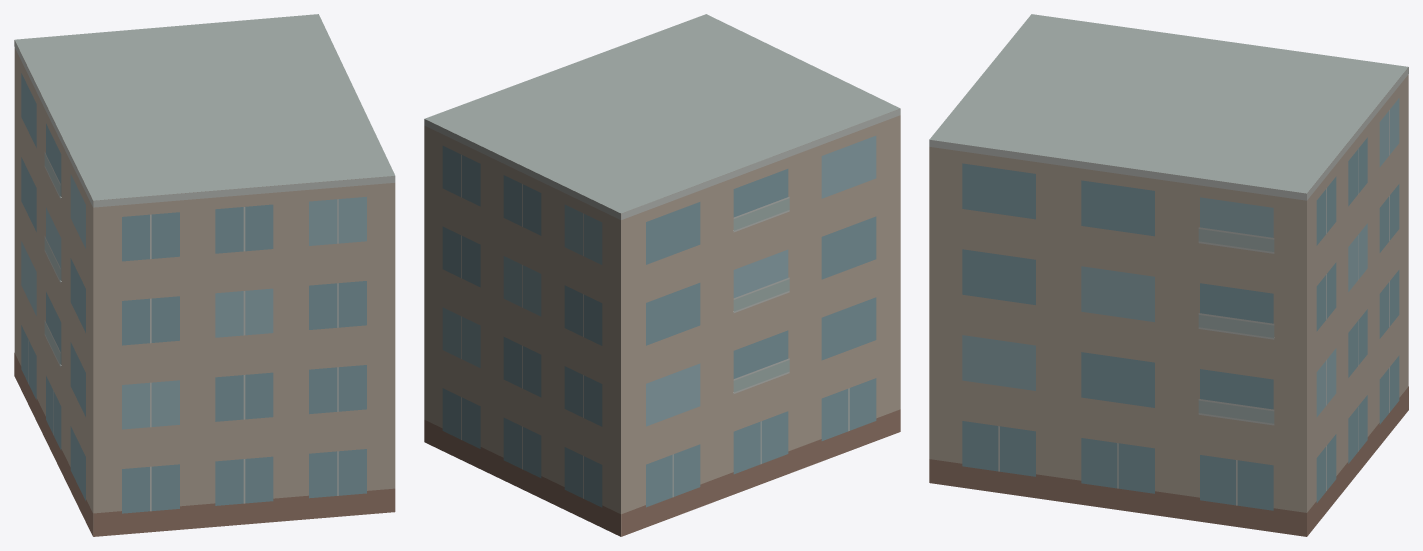
The model's file is survey-upis-32932710.glb.
The picture shows the model from 3 angles, left to right: view 1: azimuth 30°, elevation 25°; view 2: azimuth 150°, elevation 25°; view 3: azimuth 270°, elevation 25°; orthographic projection. The views are drawn at different scales.
Parts seen in each view (by area): view 1: survey-upis-32932710.tmp; view 2: survey-upis-32932710.tmp; view 3: survey-upis-32932710.tmp.
Boxes of the visible parts, <box> form: survey-upis-32932710.tmp: <box>14,14,395,536</box>; survey-upis-32932710.tmp: <box>424,14,900,536</box>; survey-upis-32932710.tmp: <box>929,14,1408,536</box>.
Bounding box in the file's own units: 13.25 × 11.8 × 14.95.
